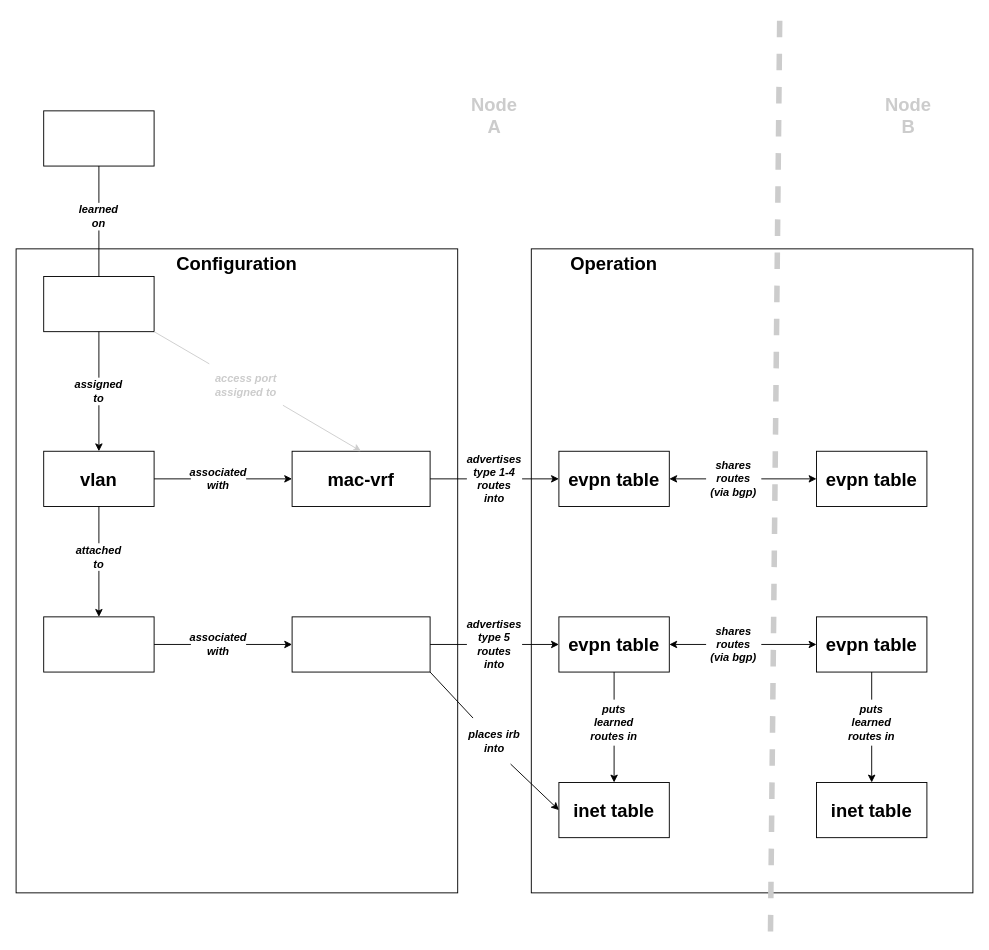
The diagram is 989 pixels wide and 950 high, and some of its shapes have lost their labels. The shapes that lost their labels are listed below. From the top down, each one's centre as x and y in pixels, then its label:
point (98, 138): host
point (98, 304): interface
point (98, 644): irb
point (360, 644): vrf
